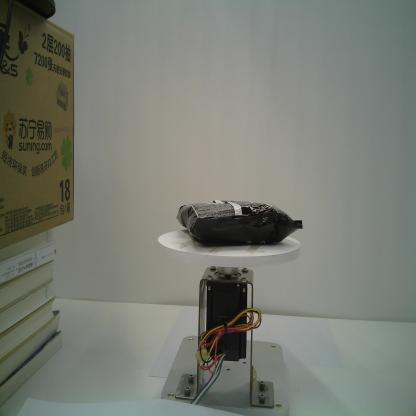Instant Noodles: (176, 199, 303, 247)
